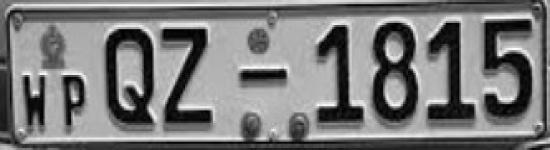-: (233, 58, 291, 98)
1: (307, 17, 369, 129), (424, 12, 481, 123)
5: (481, 10, 536, 122)
8: (368, 12, 423, 128)
P: (53, 70, 92, 136)
Q: (96, 21, 158, 131)
W: (19, 67, 51, 136)
Z: (157, 22, 220, 132)
